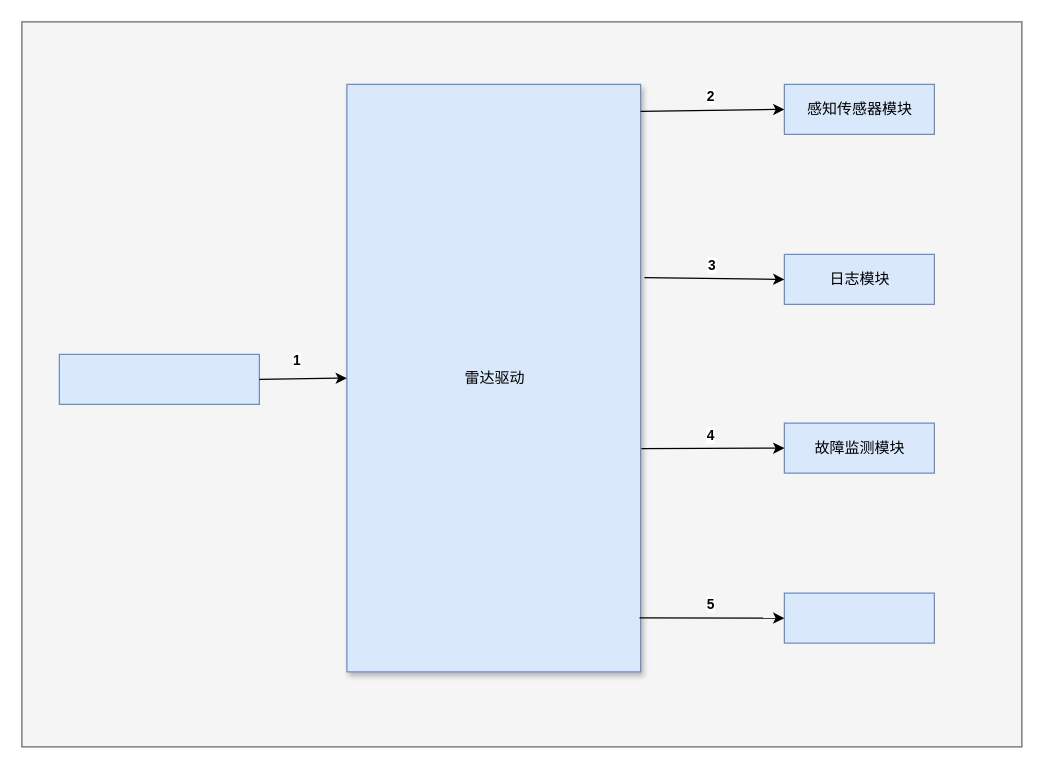
This 1044x769 diagram has some shape labels left out. The centre of each missing label's shape, as x and y in pixels:
ROS可视化: the point at 858,617
速腾、奥斯特软件开发工具包: the point at 158,378
